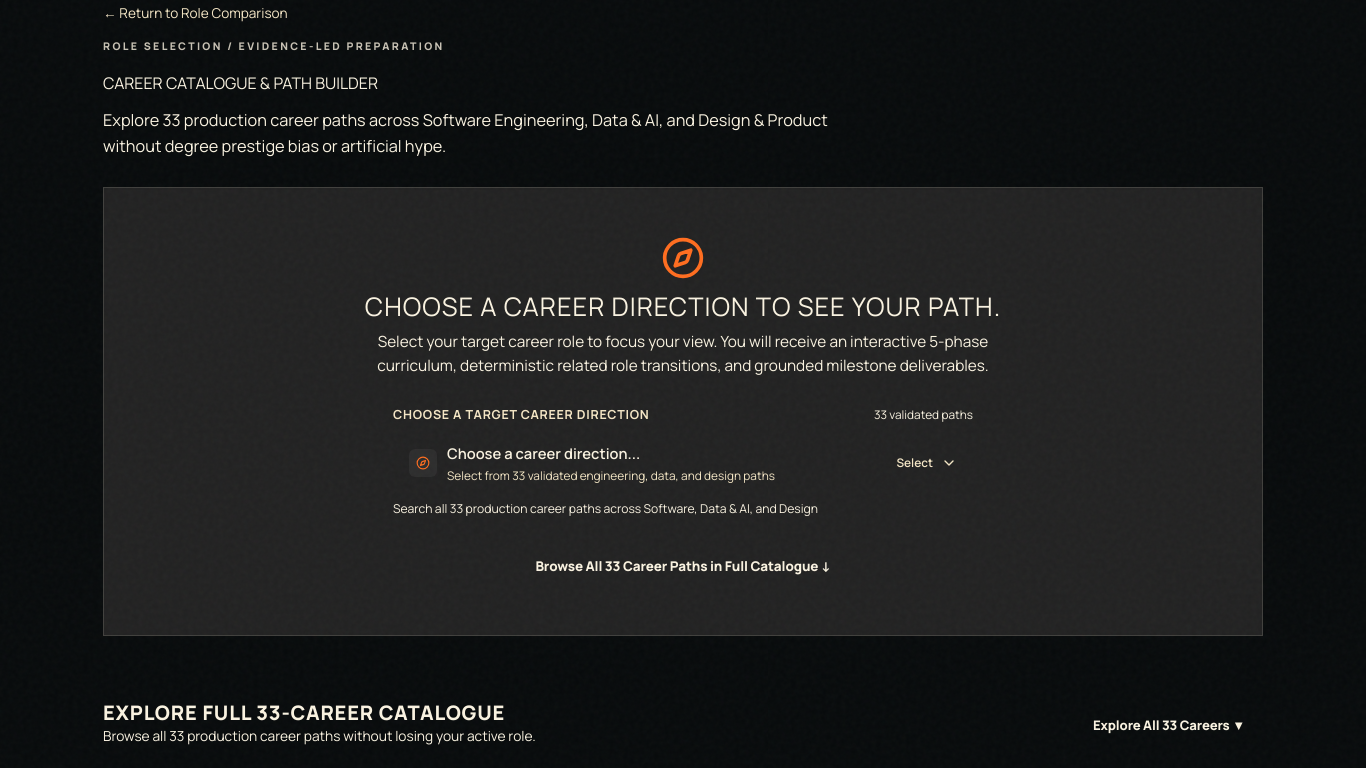
Test: Prompt 05 & Gate 05 — Unified Career Catalogue & Path Builder › 4. PathBuilder UI View & Interactivity › can expand and inspect the 5-phase staged curriculum for a career path in the catalogue
The width and height of the screenshot is (1366, 768).
Note: Open catalogue
Click the button "Browse All 33 Career Paths in Full Catalogue ↓": (683, 566) [515,546,850,588]
(page scrolled)
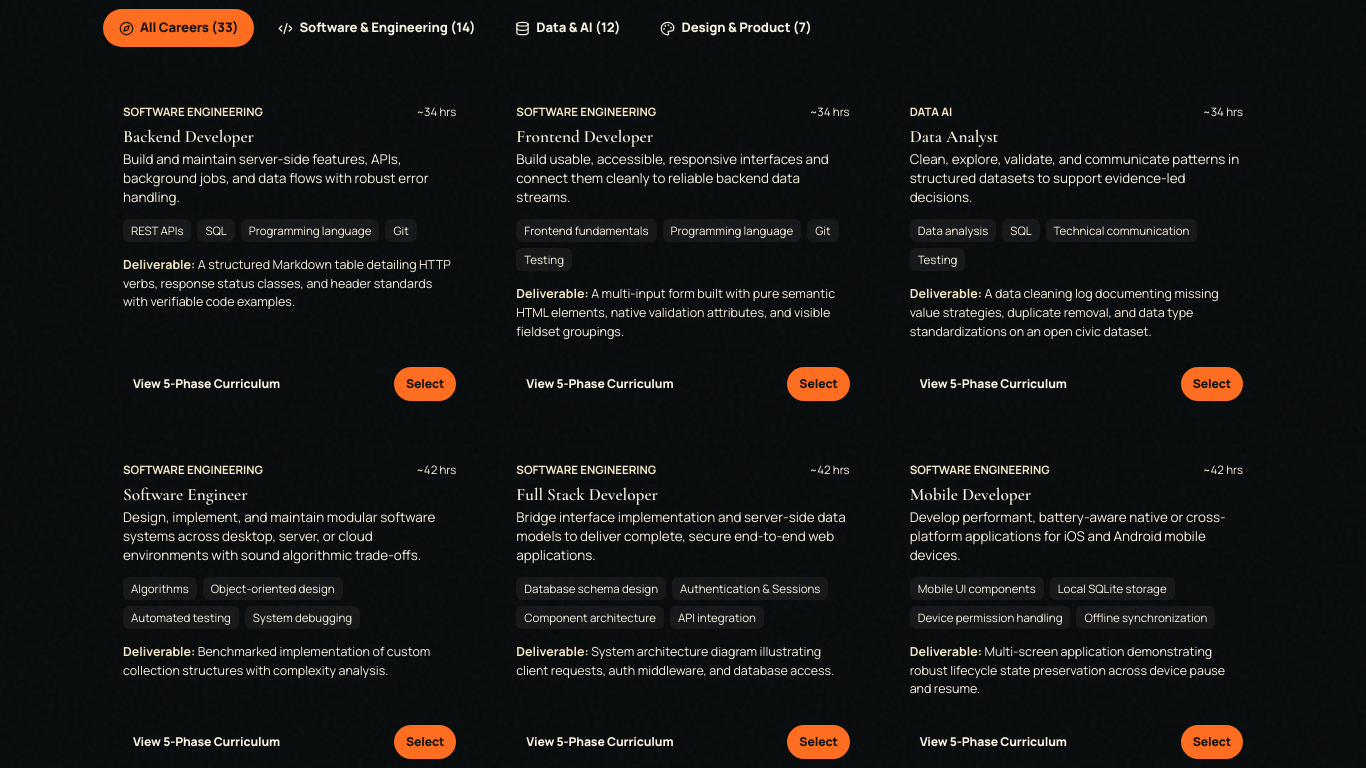
expect the button "View 5-Phase Curriculum" below "Backend Developer" is shown: met
Note: Expand the first one
Click the button "View 5-Phase Curriculum" below "Backend Developer": (207, 384) [123,367,290,401]
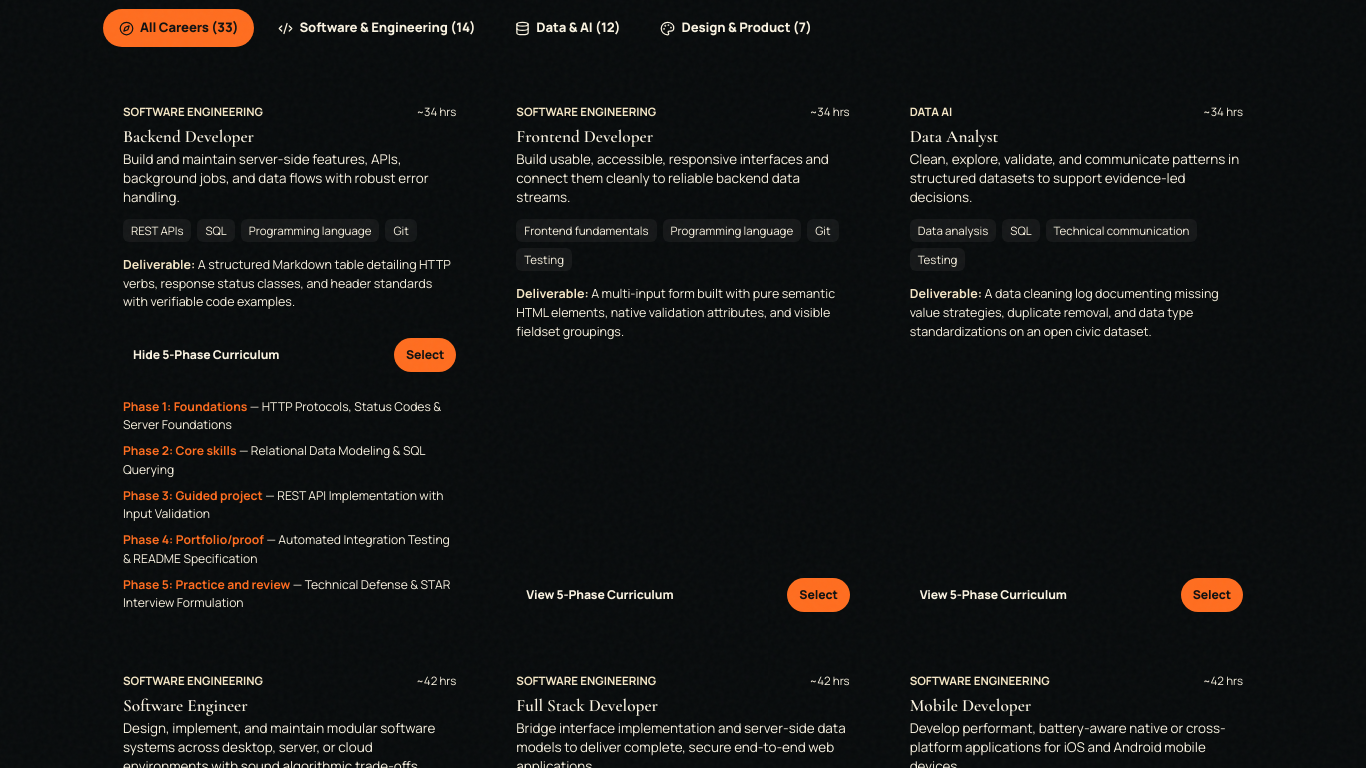
expect the text "Phase 1: Foundations" is shown: met, box [123,398,247,415]
expect the text "Phase 2: Core skills" is shown: met, box [123,442,236,460]
expect the text "Phase 3: Guided project" is shown: met, box [123,487,263,504]
